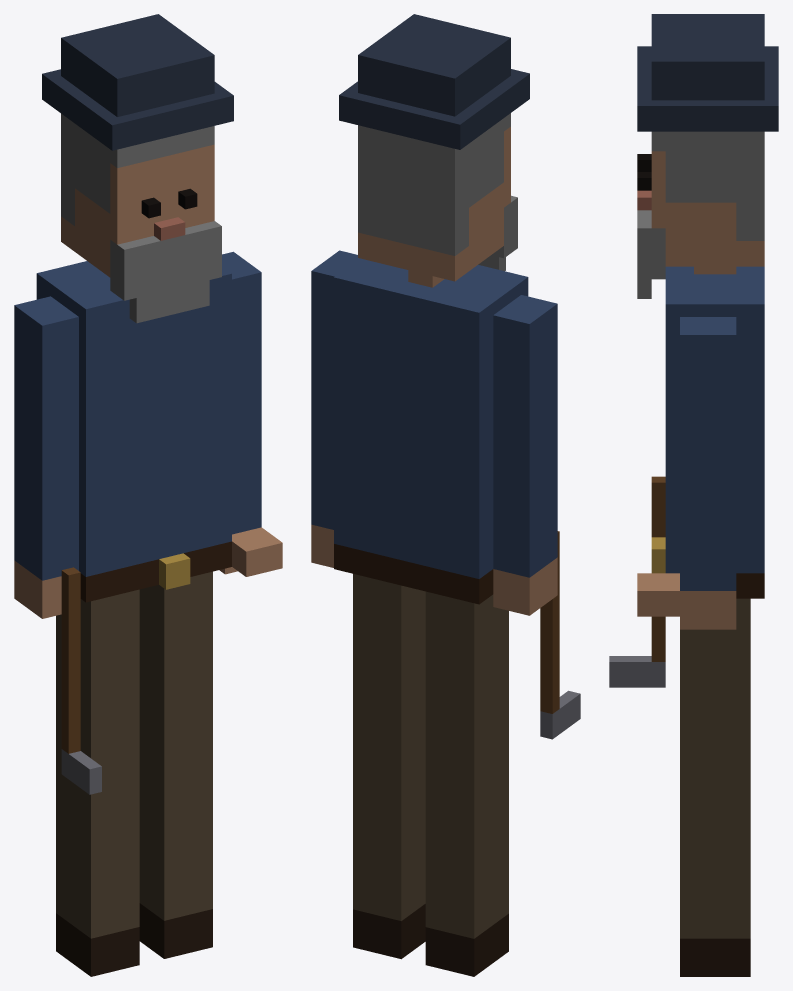
The model's file is merchant_shipwright.glb.
3 views of the same model, side by side, from view 1: azimuth 30°, elevation 25°; view 2: azimuth 150°, elevation 25°; view 3: azimuth 270°, elevation 25° (orthographic).
Visible parts, largest first — view 1: shipwright_body, shipwright_arm_R; view 2: shipwright_body, shipwright_arm_R; view 3: shipwright_body, shipwright_arm_R.
Part boxes in pixels (bbox=[...]): shipwright_body: bbox=[14, 14, 233, 976]; shipwright_arm_R: bbox=[219, 251, 282, 576]; shipwright_body: bbox=[334, 14, 580, 976]; shipwright_arm_R: bbox=[311, 250, 359, 567]; shipwright_body: bbox=[609, 14, 778, 976]; shipwright_arm_R: bbox=[637, 317, 736, 629].
Size of the model in its own units: 0.45 by 1.77 by 0.3.
